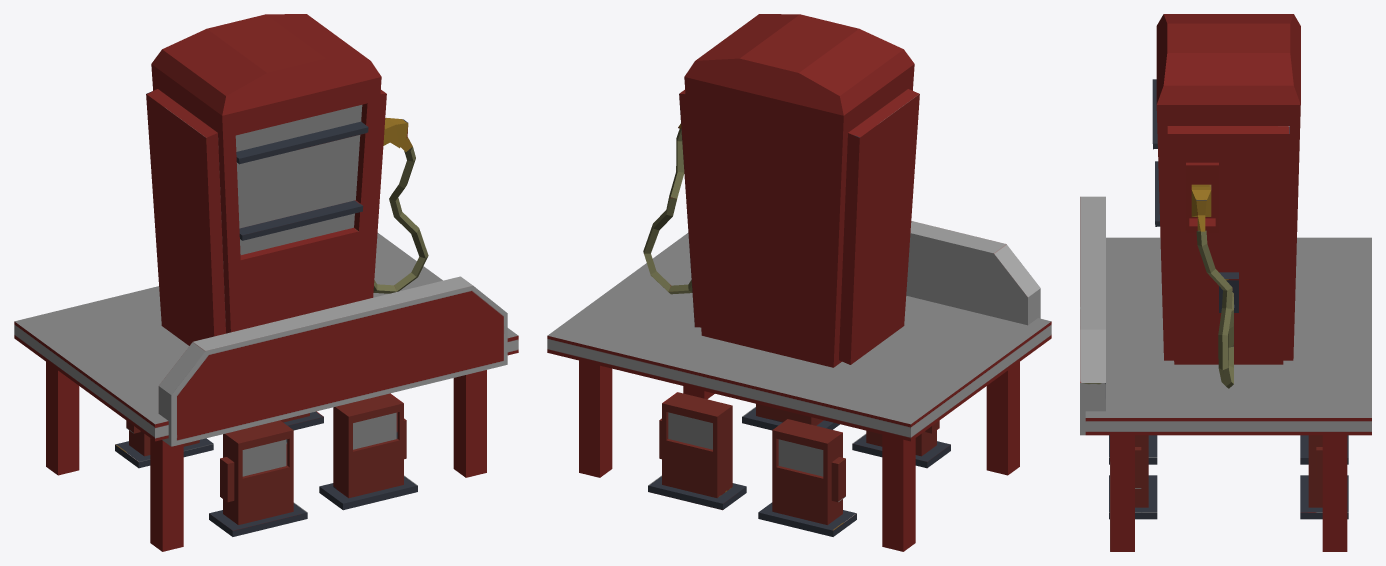
File: 加油站.fbx
The picture shows the model from 3 angles, left to right: view 1: azimuth 30°, elevation 25°; view 2: azimuth 150°, elevation 25°; view 3: azimuth 270°, elevation 25°; orthographic projection.
Visible parts, largest first — view 1: 平面.001; view 2: 平面.001; view 3: 平面.001.
Boxes of the visible parts, x1=… form: 平面.001: x1=14, y1=14, x2=518, y2=551; 平面.001: x1=547, y1=14, x2=1051, y2=551; 平面.001: x1=1080, y1=14, x2=1371, y2=551.
Bounding box in the file's own units: 253 × 284 × 173.
Materials: 1 (1 with a texture image).
